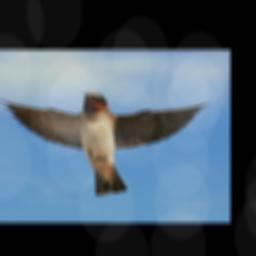Swallow: (0, 90, 211, 196)
